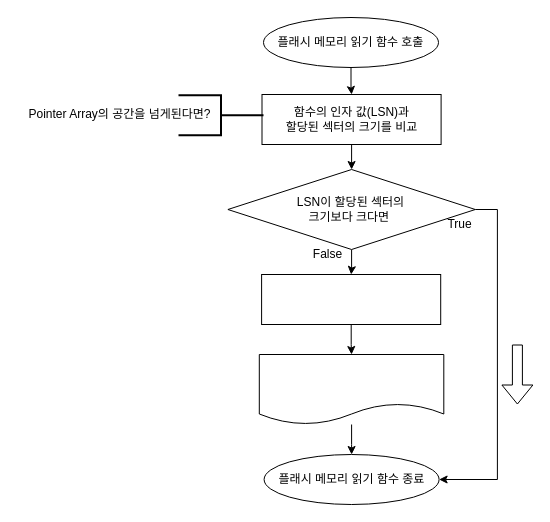
Some shapes in this 550 by 522 pixel diagram are drawn without their labels. The centre of each missing label's shape, as x and y in pixels:
"입력된 LSN을 기반으로 Mapping 된 PSN 계산" goes at (351,299).
"해당 섹터의 데이터 크기만큼 데이터를 출력해준다." goes at (351,389).
